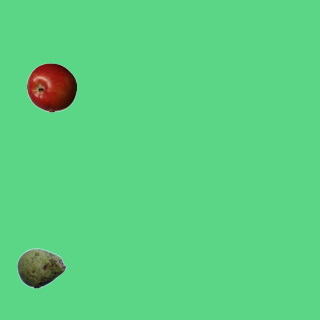Apple Braeburn: (26, 62, 76, 112)
Pear Stone: (16, 243, 66, 293)
